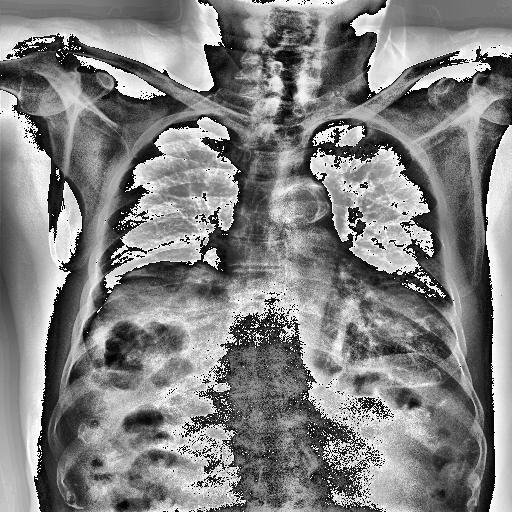0- Aortic enlargement: (272, 177, 332, 226), (276, 178, 332, 223)
2- Calcification: (276, 178, 332, 223)
3- Cardiomegaly: (230, 258, 450, 360), (215, 282, 451, 374), (220, 298, 450, 370)
9- Other lesion: (80, 262, 236, 382), (74, 264, 232, 375), (84, 266, 243, 332)
